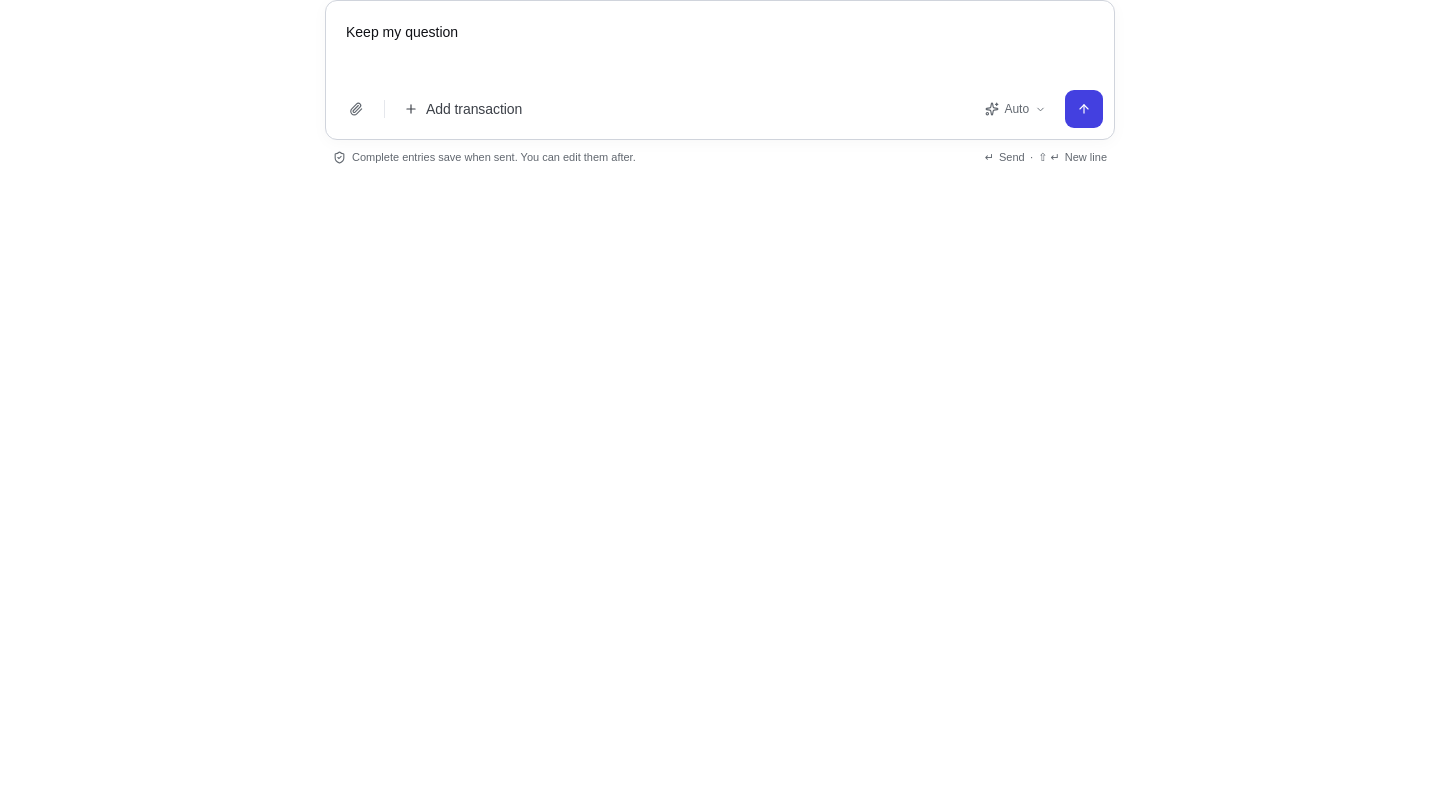
Scenario: finance composer journey › saves a transaction once without submitting chat and refreshes totals
Click the button "Add transaction" at (463, 109), box [393,89,533,129]
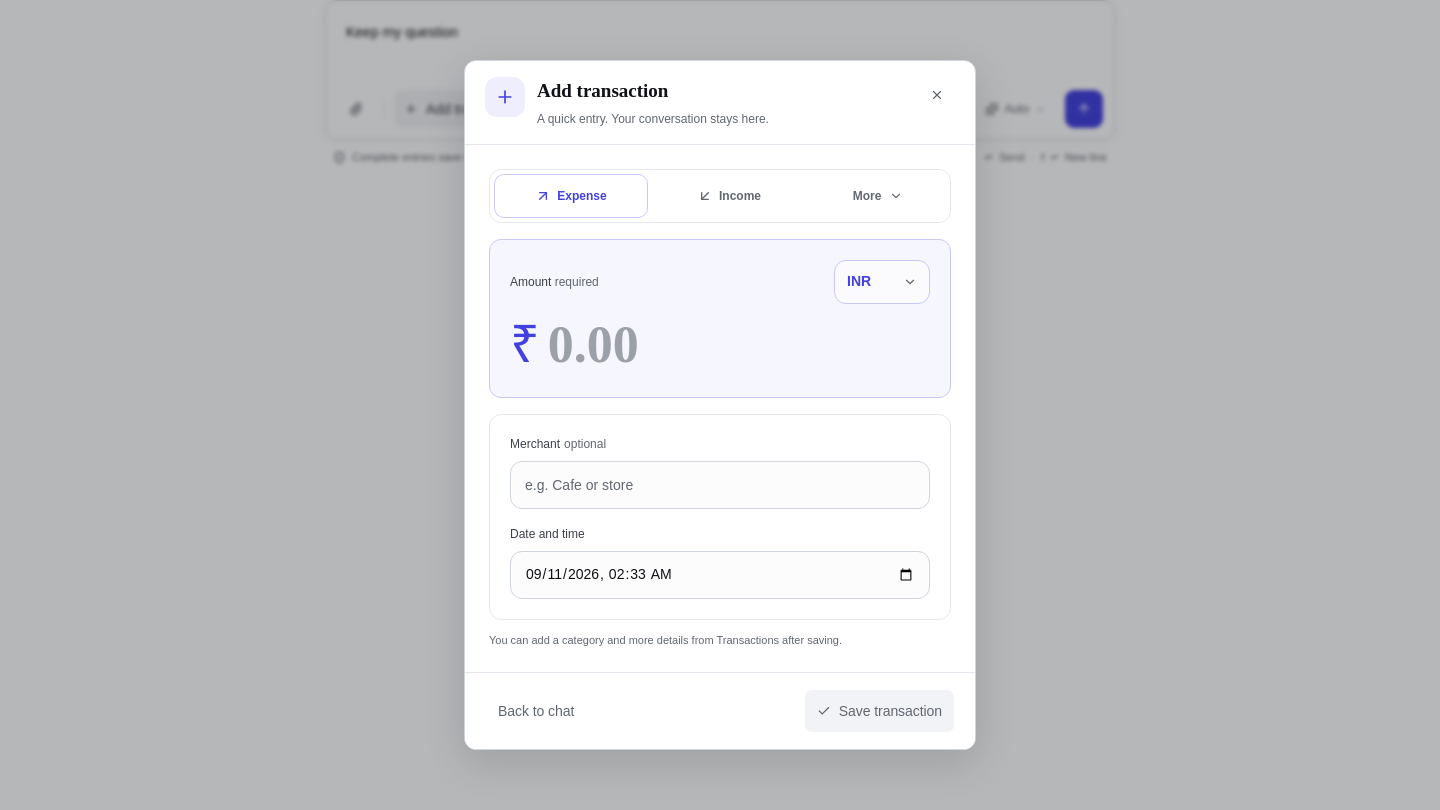
Type "540" into the field named "Transaction amount" at (739, 344), box [548,312,930,376]
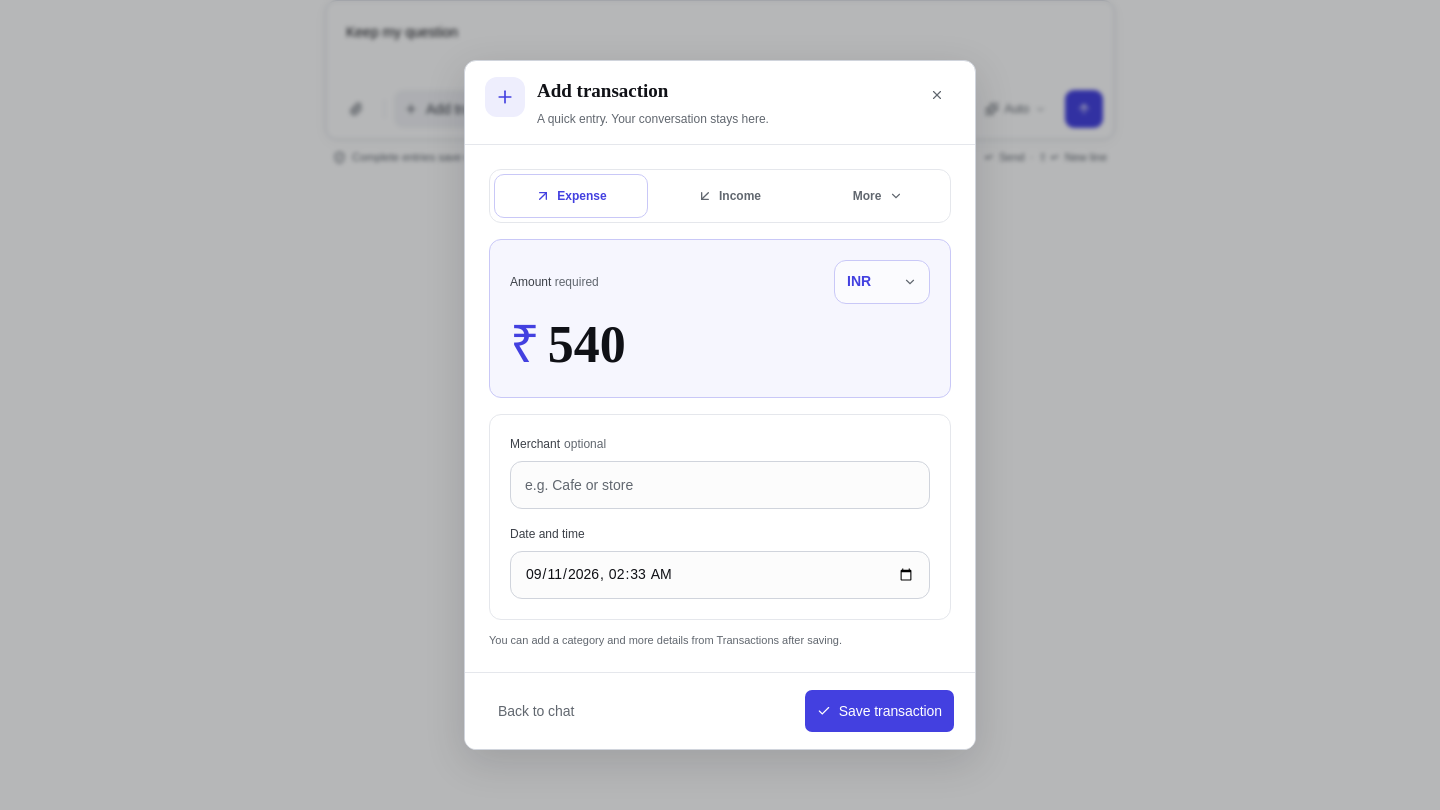
Click the button "Save transaction" at (879, 711), box [804,689,955,733]
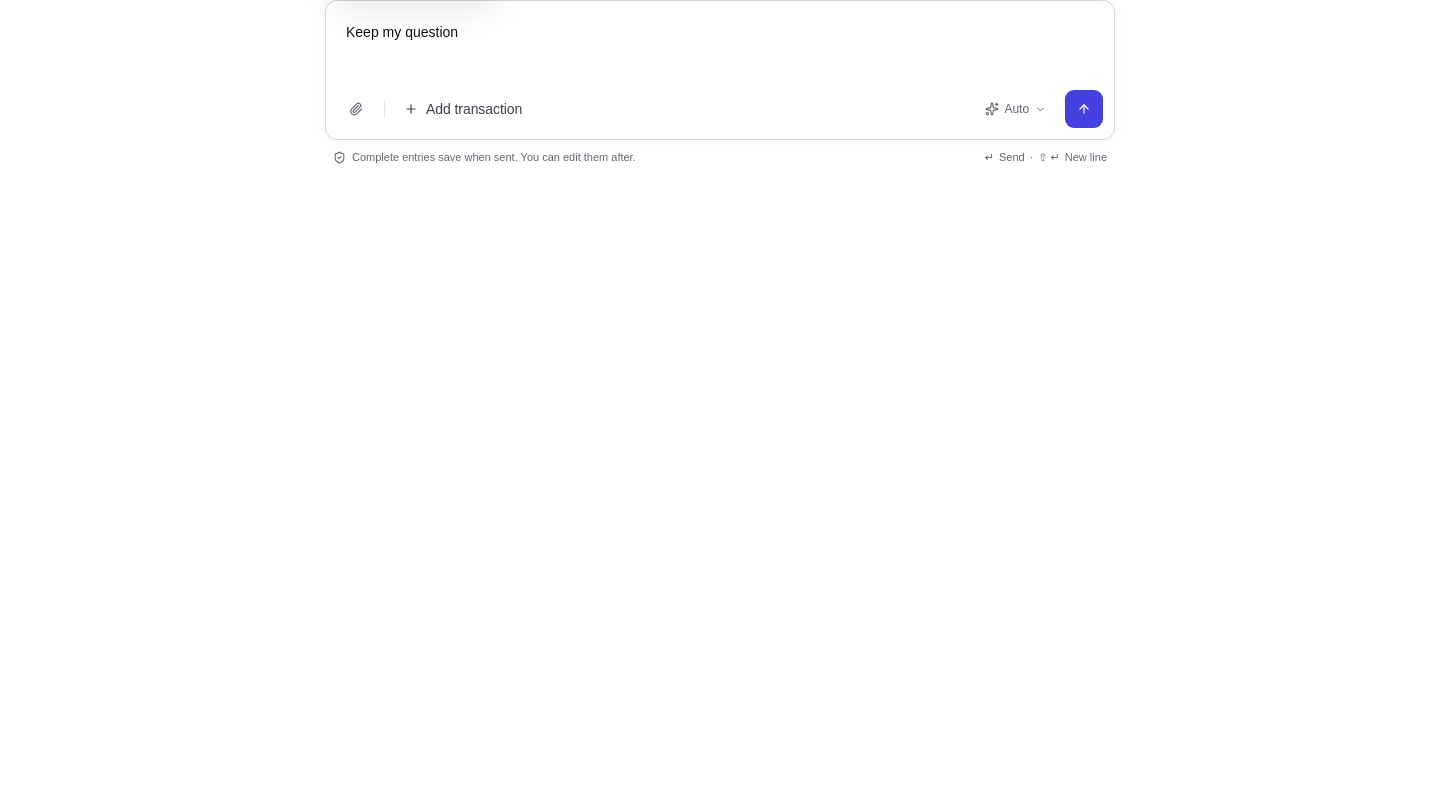
Expected: the text box named "Message fyn AI" holds "Keep my question", [334,9,1106,85]
Expected: the dialog is gone
